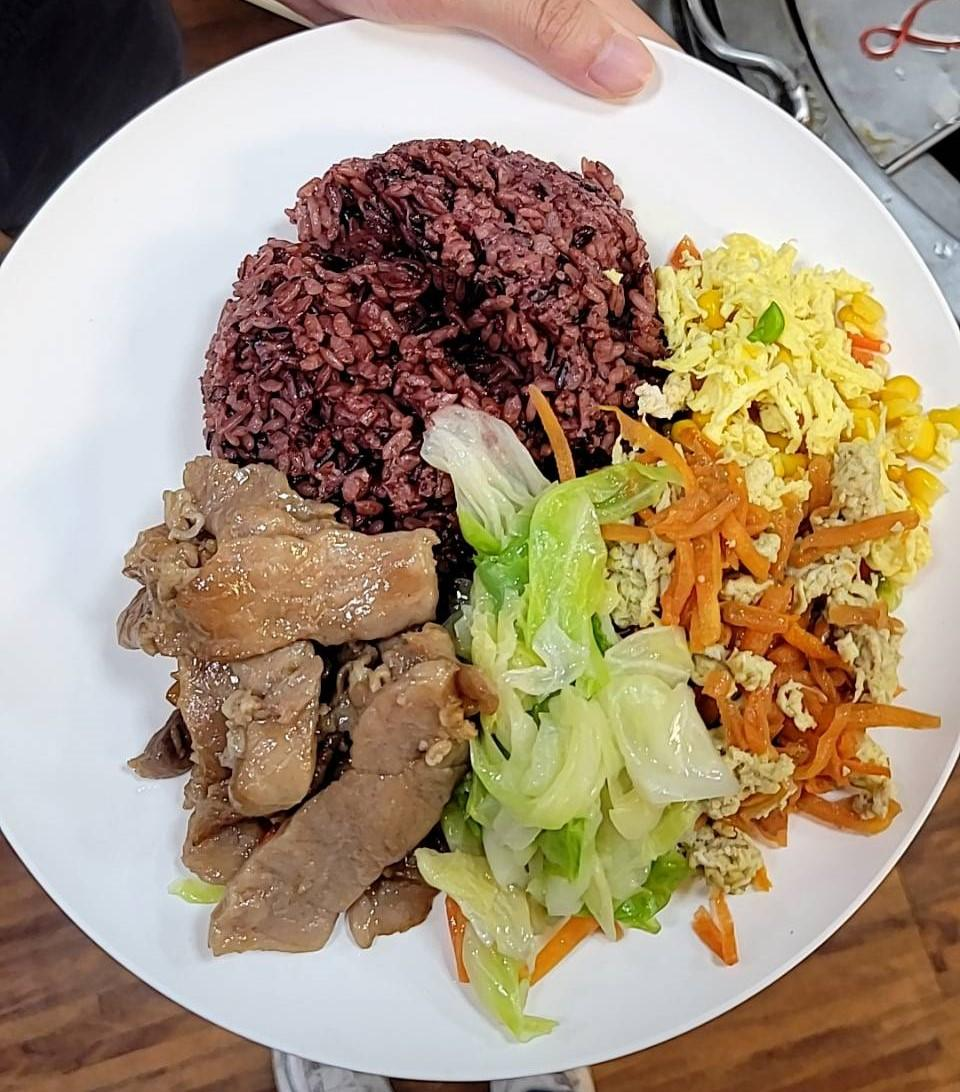big fried chicken leg: (0, 18, 960, 1073)
braised fish: (207, 118, 646, 528)
braised fish fillet: (651, 220, 945, 859), (416, 416, 693, 1025)
braised pork: (123, 463, 467, 969)
